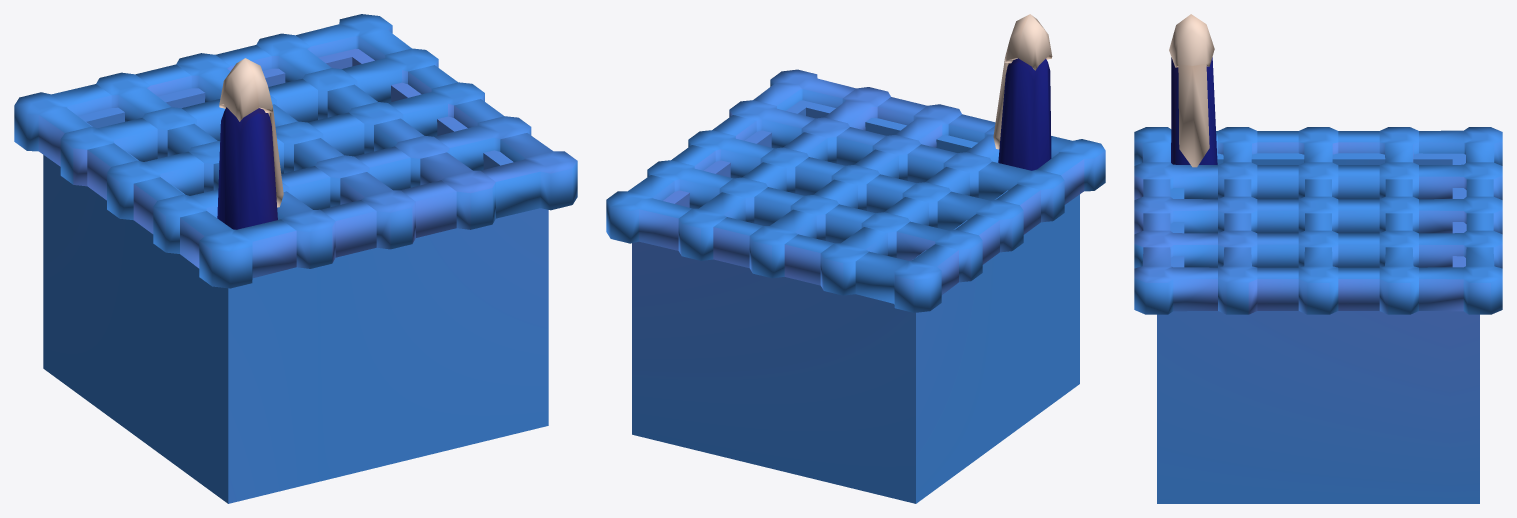
Rendered from CaixaCaneta.fbx.
3 renders of one model, left to right at view 1: azimuth 30°, elevation 25°; view 2: azimuth 150°, elevation 25°; view 3: azimuth 270°, elevation 25°, orthographic. The views are drawn at different scales.
Parts seen in each view (by area): view 1: CaixaCaneta; view 2: CaixaCaneta; view 3: CaixaCaneta.
Part boxes in pixels (x1=…): CaixaCaneta: x1=14, y1=14, x2=577, y2=503; CaixaCaneta: x1=606, y1=14, x2=1105, y2=503; CaixaCaneta: x1=1134, y1=14, x2=1502, y2=503.
Size of the model in its own units: 37.21 by 41.12 by 37.21.
Materials: 1 (1 with a texture image).
